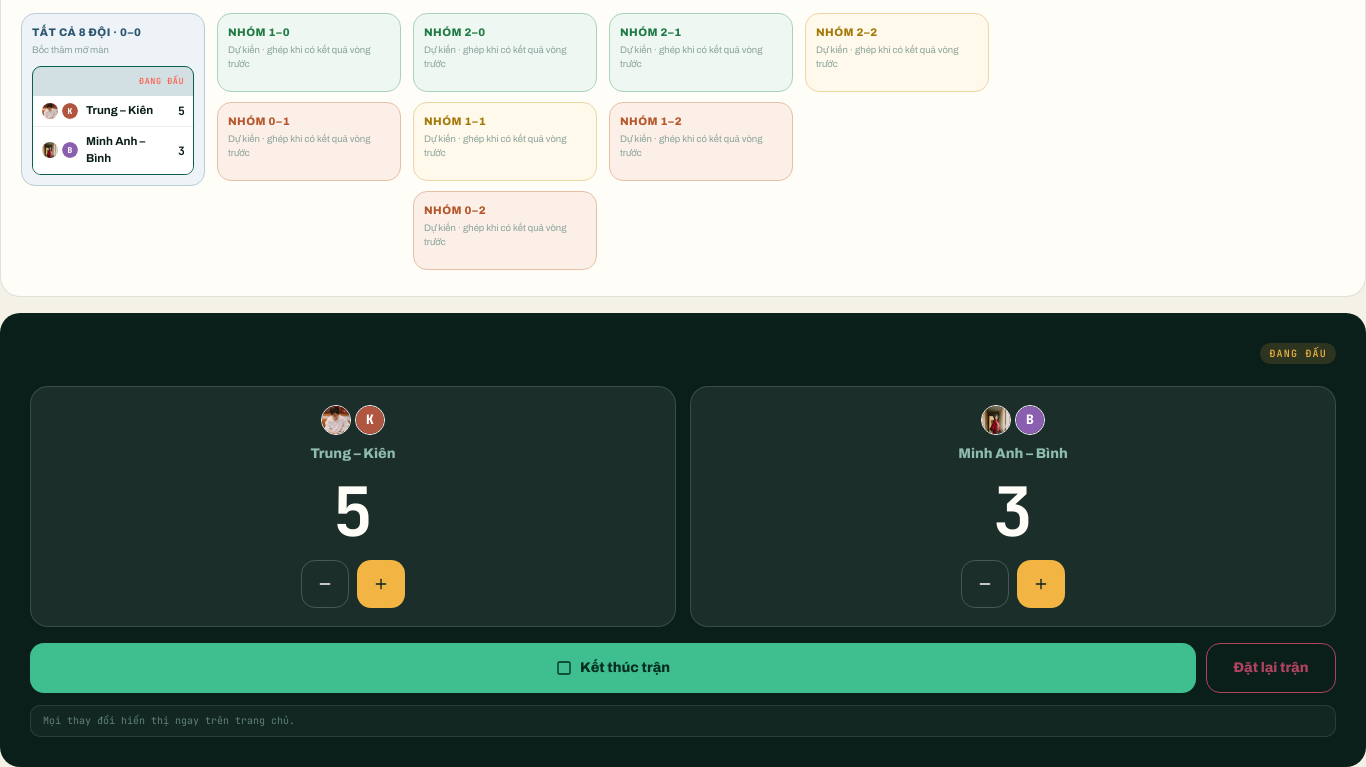
Test: RefereeScoringPanel (characterization: optimistic + rollback) › ROLLS BACK to the last server value and shows the RLS message when the update matches zero rows
(page scrolled)
Click the button named "Tăng điểm đội A": [381, 584] box x1=357 y1=560 x2=405 y2=608
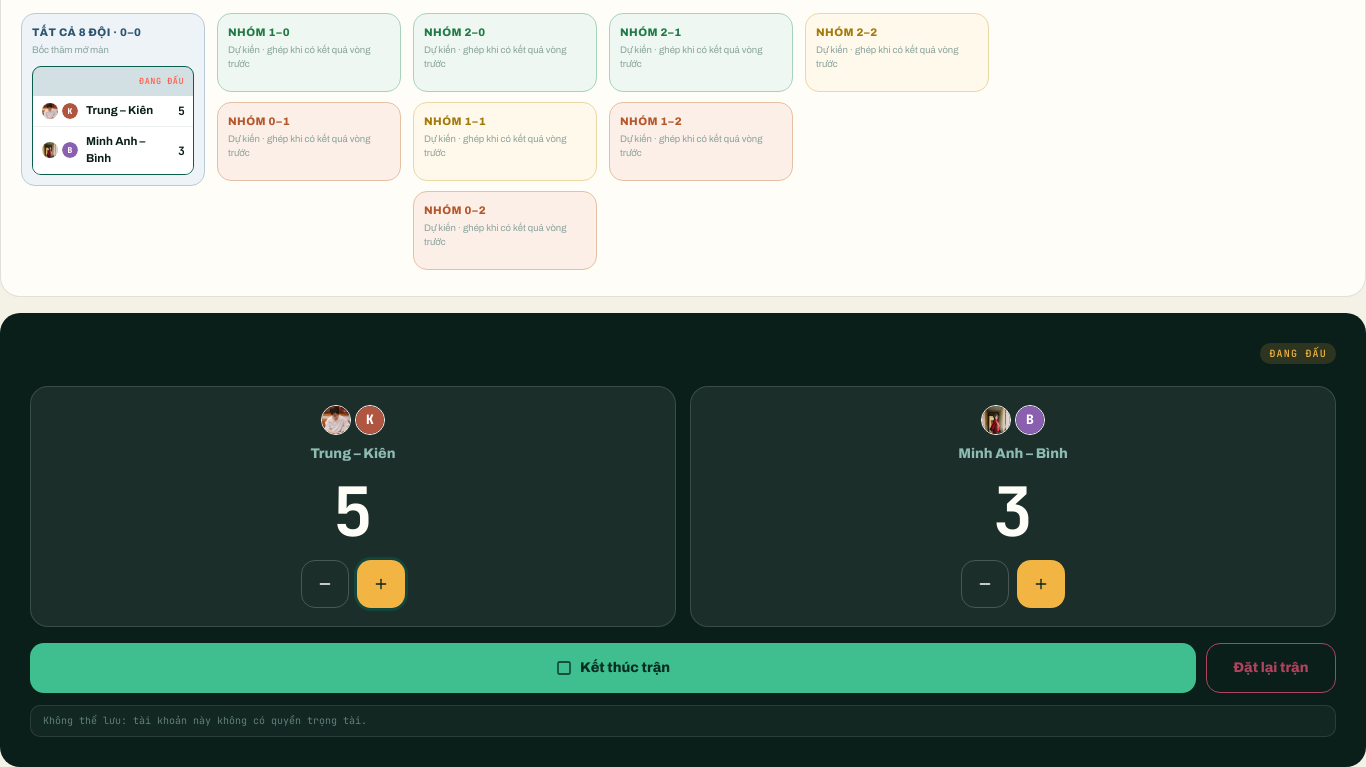
Expected: the text with test id "ref-score-a" reads "5", x1=333 y1=466 x2=373 y2=556
Expected: the text "Không thể lưu: tài khoản này không có quyền trọng tài." is shown, x1=43 y1=714 x2=367 y2=726
